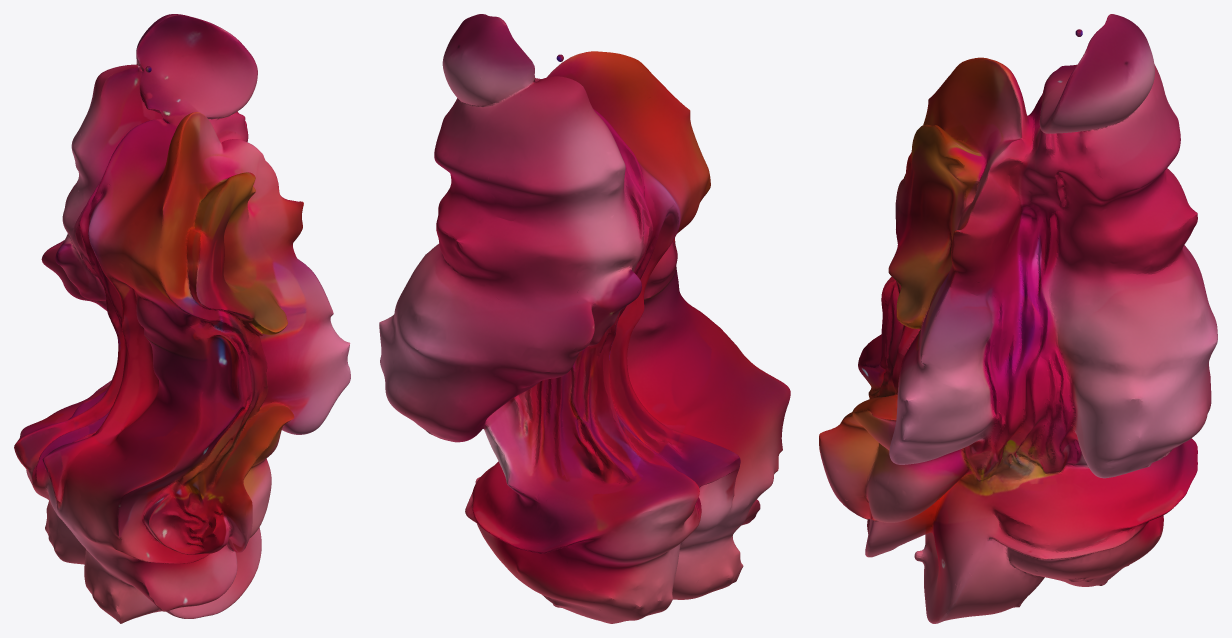
3 renders of one model, left to right at view 1: azimuth 30°, elevation 25°; view 2: azimuth 150°, elevation 25°; view 3: azimuth 270°, elevation 25°, orthographic. The views are drawn at different scales.
Visible parts, largest first — view 1: model; view 2: model; view 3: model.
Part boxes in pixels (x1,y1,x2,y2): model: (14, 14, 350, 623); model: (379, 14, 790, 623); model: (819, 14, 1217, 623).
Bounding box in the file's own units: 0.9922 × 1.9 × 1.1.
Materials: 1 (1 with a texture image).
